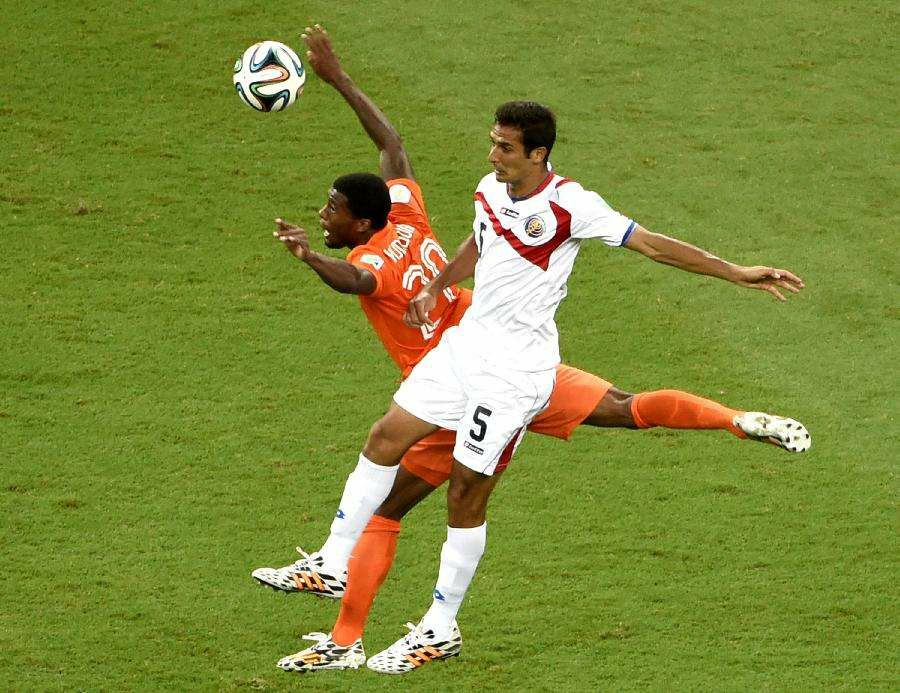football: (234, 40, 310, 116)
